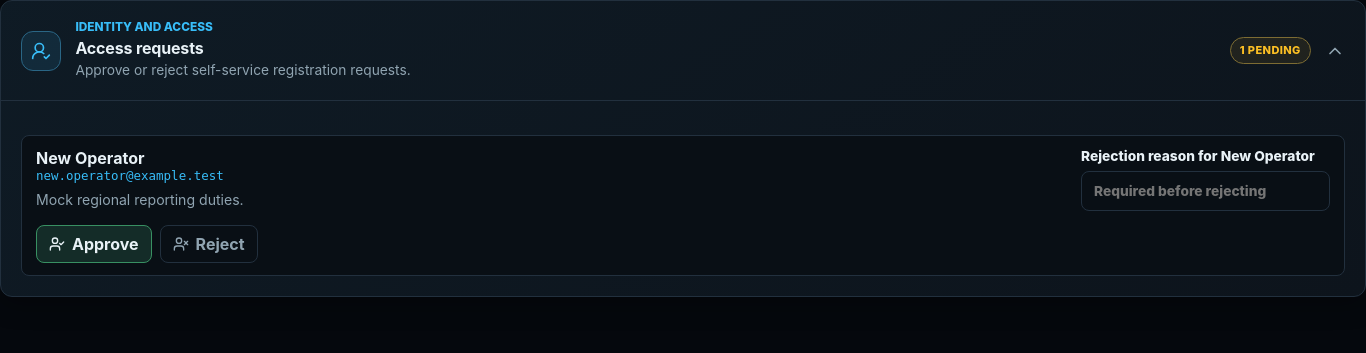
Test case: approves a pending access request
Expected: the text "New Operator" is shown, left=36, top=148, right=144, bottom=168
Expected: the text "Mock regional reporting duties." is shown, left=36, top=191, right=244, bottom=208
What coordinates should you click on to do the following:
click the button "Approve"
I would click on:
 (94, 244)
Its box is left=36, top=225, right=152, bottom=263.
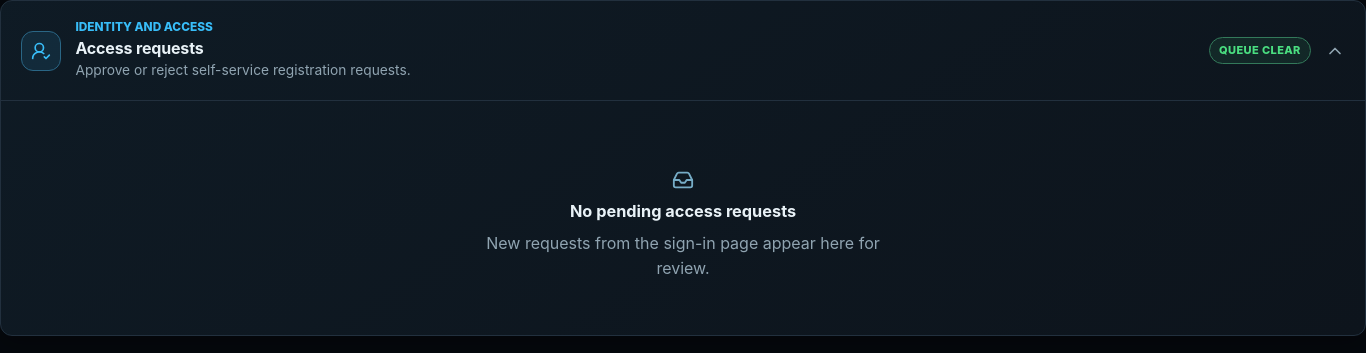
Expected: the heading "No pending access requests" is shown, left=570, top=201, right=796, bottom=221
